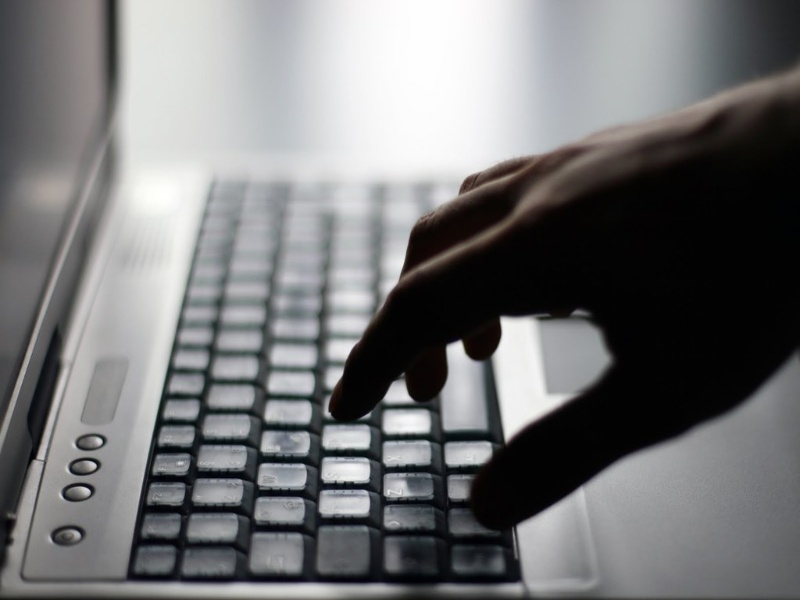laptop: (1, 3, 585, 600)
